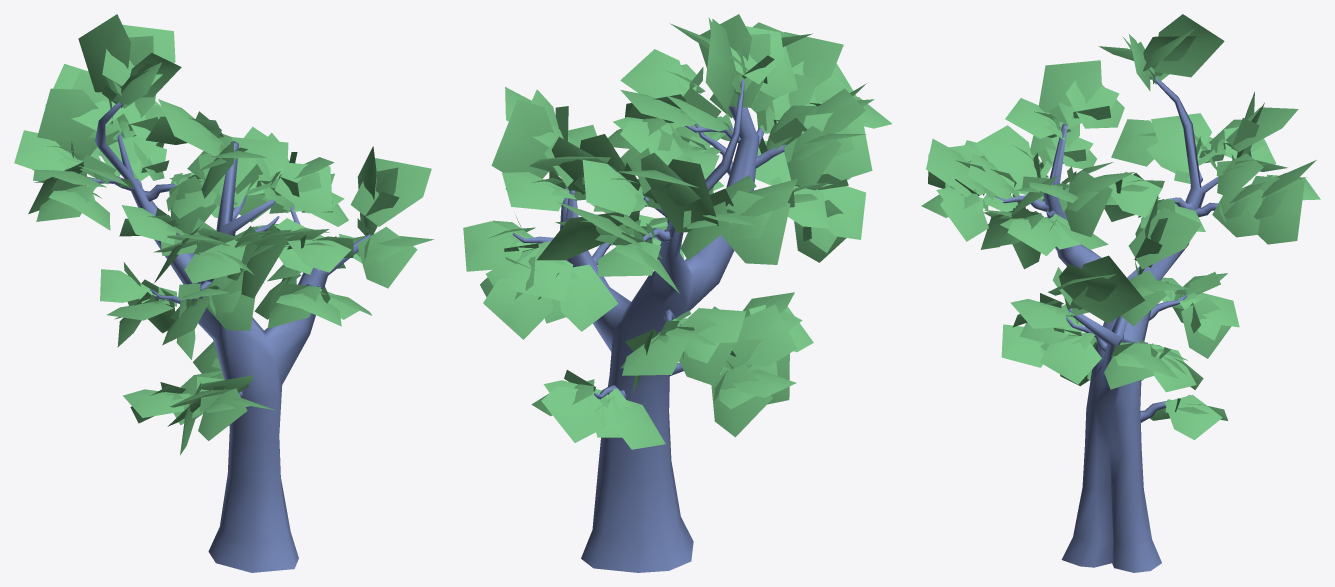
Rendered from tree_ancient_giant.fbx.
The picture shows the model from 3 angles, left to right: view 1: azimuth 30°, elevation 25°; view 2: azimuth 150°, elevation 25°; view 3: azimuth 270°, elevation 25°; orthographic projection. The views are drawn at different scales.
Parts seen in each view (by area): view 1: L6 base tree_leaves, L6 base tree_wood; view 2: L6 base tree_leaves, L6 base tree_wood; view 3: L6 base tree_leaves, L6 base tree_wood.
Part boxes in pixels (left/top/right/bottom): L6 base tree_leaves: left=14, top=14, right=434, bottom=455; L6 base tree_wood: left=87, top=102, right=370, bottom=572; L6 base tree_leaves: left=463, top=14, right=892, bottom=449; L6 base tree_wood: left=512, top=78, right=785, bottom=572; L6 base tree_leaves: left=921, top=14, right=1320, bottom=439; L6 base tree_wood: left=995, top=75, right=1218, bottom=572.
Bounding box in the file's own units: 153991 × 228464 × 167189.
